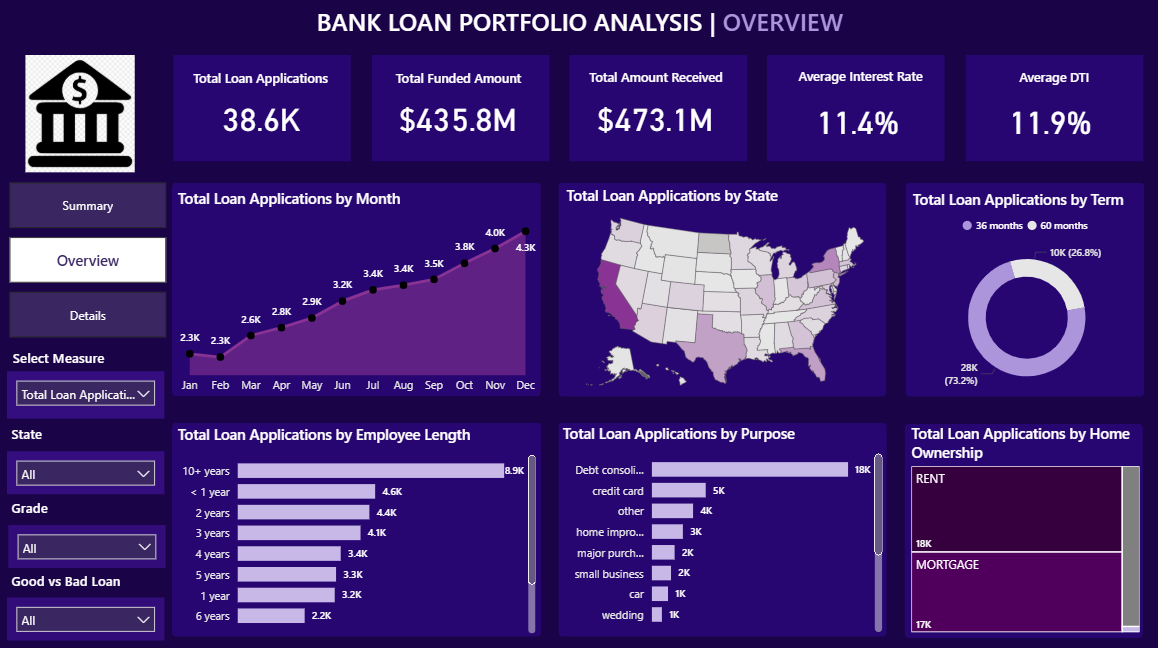

The page's visual inventory and layout, read from the dashboard file:
{"tool":"powerbi","page":{"name":"Overview","canvas":[1280,720],"ordinal":1},"visuals":[{"type":"shape","box":[193,60.3,194.9,116.6],"z":0,"group":"g1"},{"type":"shape","box":[411.3,60.3,194.9,116.6],"z":0,"group":"g2"},{"type":"shape","box":[627.8,60.4,194.9,116.6],"z":0,"group":"g3"},{"type":"shape","box":[845.6,60.4,194.9,116.6],"z":0,"group":"g4"},{"type":"shape","box":[1063.5,60.4,194.9,116.6],"z":0,"group":"g5"},{"type":"shape","box":[191.8,200.3,405,235],"z":0},{"type":"textbox","box":[0,0,1280.3,59],"z":1000},{"type":"cardVisual","fields":{"Data":["financial_loan.Total Loan Applications"]},"box":[194.1,97.2,191.8,65.1],"z":1000,"group":"g1"},{"type":"cardVisual","fields":{"Data":["financial_loan.Total Funded Amount"]},"box":[410.2,97.2,191.8,65.1],"z":1000,"group":"g2"},{"type":"cardVisual","fields":{"Data":["financial_loan.Total Amount Received"]},"box":[626.8,97.3,191.8,65.1],"z":1000,"group":"g3"},{"type":"cardVisual","fields":{"Data":["financial_loan.Avg Interest Rate"]},"box":[849.7,99.8,191.8,65.1],"z":1000,"group":"g4"},{"type":"cardVisual","fields":{"Data":["financial_loan.Avg DTI"]},"box":[1060.5,99.8,191.8,65.1],"z":1000,"group":"g5"},{"type":"textbox","box":[0,59.1,191.8,661.1],"z":2000},{"type":"textbox","box":[866.6,68.4,164.1,32.6],"z":2000,"group":"g4"},{"type":"textbox","box":[640.3,69.6,165.3,32.6],"z":2000,"group":"g3"},{"type":"textbox","box":[1078,69.6,164.1,32.6],"z":2000,"group":"g5"},{"type":"textbox","box":[206.2,70.8,164.1,32.6],"z":2000,"group":"g1"},{"type":"textbox","box":[424.4,70.8,165.3,32.6],"z":2000,"group":"g2"},{"type":"slicer","fields":{"Values":["financial_loan.address_state"]},"box":[11.6,494.9,172.5,47.1],"z":3000},{"type":"textbox","box":[11.6,461.1,56.7,33.8],"z":4000},{"type":"textbox","box":[11.6,541.9,68.8,33.8],"z":5000},{"type":"slicer","fields":{"Values":["financial_loan.grade"]},"box":[12.8,575.7,172.5,47.1],"z":6000},{"type":"slicer","fields":{"Values":["financial_loan.Good vs Bad Loan"]},"box":[11.6,656.5,172.5,47.1],"z":7000},{"type":"textbox","box":[11.6,622.8,172.5,33.8],"z":8000},{"type":"areaChart","fields":{"Y":["financial_loan.Total Loan Applications"],"Category":["Date Table.Month"]},"box":[193.8,205.6,405.4,235.3],"z":9000},{"type":"slicer","fields":{"Values":["Select Measure.Select Measure"]},"box":[11.6,408,172.5,51.9],"z":10000},{"type":"textbox","box":[12.8,377.9,143.6,33.8],"z":11000},{"type":"shape","box":[616.5,200.3,360,235.3],"z":12000},{"type":"shapeMap","fields":{"Value":["financial_loan.Total Loan Applications"],"Category":["financial_loan.address_state"]},"box":[619.6,203.2,358.3,235.3],"z":13000},{"type":"shape","box":[997.7,200.3,261.8,235.3],"z":14000},{"type":"donutChart","fields":{"Y":["financial_loan.Total Loan Applications"],"Category":["financial_loan.term"]},"box":[1000.9,206.8,260.6,234],"z":15000},{"type":"shape","box":[191.8,463.5,405.4,235.3],"z":16000},{"type":"barChart","fields":{"Y":["financial_loan.Total Loan Applications"],"Category":["financial_loan.emp_length"]},"box":[193,464.7,403,235.3],"z":17000},{"type":"shape","box":[616.5,463.5,360.7,235.3],"z":18000},{"type":"barChart","fields":{"Y":["financial_loan.Total Loan Applications"],"Category":["financial_loan.purpose"]},"box":[616.5,463.5,360.7,235.3],"z":19000},{"type":"shape","box":[996.5,464.7,261.8,235.3],"z":20000},{"type":"treemap","fields":{"Values":["financial_loan.Total Loan Applications"],"Group":["financial_loan.home_ownership"]},"box":[998.9,463.5,260.6,235.3],"z":21000},{"type":"pageNavigator","box":[13.3,200.3,172.5,172.5],"z":22000},{"type":"image","box":[0,60.3,182.2,129.1],"z":23000},{"type":"group","id":"g1","title":"Group 1","box":[193,60.3,194.9,116.6],"z":24000},{"type":"group","id":"g2","title":"Group 1","box":[410.2,60.3,196,116.6],"z":25000},{"type":"group","id":"g3","title":"Group 1","box":[626.8,60.4,195.8,116.6],"z":26000},{"type":"group","id":"g4","title":"Group 1","box":[845.6,60.4,195.9,116.6],"z":27000},{"type":"group","id":"g5","title":"Group 1","box":[1060.5,60.4,197.8,116.6],"z":28000}]}

Visuals, with their boxes in screenshot pixels (x1, y1, x2, y2), scaled from the page's 1280x720 canvas onto the 1158x648 screenshot:
shape: x1=175 y1=54 x2=351 y2=159
shape: x1=372 y1=54 x2=548 y2=159
shape: x1=568 y1=54 x2=744 y2=159
shape: x1=765 y1=54 x2=941 y2=159
shape: x1=962 y1=54 x2=1138 y2=159
shape: x1=174 y1=180 x2=540 y2=392
textbox: x1=0 y1=0 x2=1157 y2=53
cardVisual - financial_loan.Total Loan Applications: x1=176 y1=87 x2=349 y2=146
cardVisual - financial_loan.Total Funded Amount: x1=371 y1=87 x2=545 y2=146
cardVisual - financial_loan.Total Amount Received: x1=567 y1=88 x2=741 y2=146
cardVisual - financial_loan.Avg Interest Rate: x1=769 y1=90 x2=942 y2=148
cardVisual - financial_loan.Avg DTI: x1=959 y1=90 x2=1133 y2=148
textbox: x1=0 y1=53 x2=174 y2=647
textbox: x1=784 y1=62 x2=932 y2=91
textbox: x1=579 y1=63 x2=729 y2=92
textbox: x1=975 y1=63 x2=1124 y2=92
textbox: x1=187 y1=64 x2=335 y2=93
textbox: x1=384 y1=64 x2=533 y2=93
slicer - financial_loan.address_state: x1=10 y1=445 x2=167 y2=488
textbox: x1=10 y1=415 x2=62 y2=445
textbox: x1=10 y1=488 x2=73 y2=518
slicer - financial_loan.grade: x1=12 y1=518 x2=168 y2=561
slicer - financial_loan.Good vs Bad Loan: x1=10 y1=591 x2=167 y2=633
textbox: x1=10 y1=561 x2=167 y2=591
areaChart - financial_loan.Total Loan Applications x Date Table.Month: x1=175 y1=185 x2=542 y2=397
slicer - Select Measure.Select Measure: x1=10 y1=367 x2=167 y2=414
textbox: x1=12 y1=340 x2=141 y2=371
shape: x1=558 y1=180 x2=883 y2=392
shapeMap - financial_loan.Total Loan Applications x financial_loan.address_state: x1=561 y1=183 x2=885 y2=395
shape: x1=903 y1=180 x2=1139 y2=392
donutChart - financial_loan.Total Loan Applications x financial_loan.term: x1=906 y1=186 x2=1141 y2=397
shape: x1=174 y1=417 x2=540 y2=629
barChart - financial_loan.Total Loan Applications x financial_loan.emp_length: x1=175 y1=418 x2=539 y2=630
shape: x1=558 y1=417 x2=884 y2=629
barChart - financial_loan.Total Loan Applications x financial_loan.purpose: x1=558 y1=417 x2=884 y2=629
shape: x1=902 y1=418 x2=1138 y2=630
treemap - financial_loan.Total Loan Applications x financial_loan.home_ownership: x1=904 y1=417 x2=1139 y2=629
pageNavigator: x1=12 y1=180 x2=168 y2=336
image: x1=0 y1=54 x2=165 y2=170
"Group 1" group: x1=175 y1=54 x2=351 y2=159
"Group 1" group: x1=371 y1=54 x2=548 y2=159
"Group 1" group: x1=567 y1=54 x2=744 y2=159
"Group 1" group: x1=765 y1=54 x2=942 y2=159
"Group 1" group: x1=959 y1=54 x2=1138 y2=159
